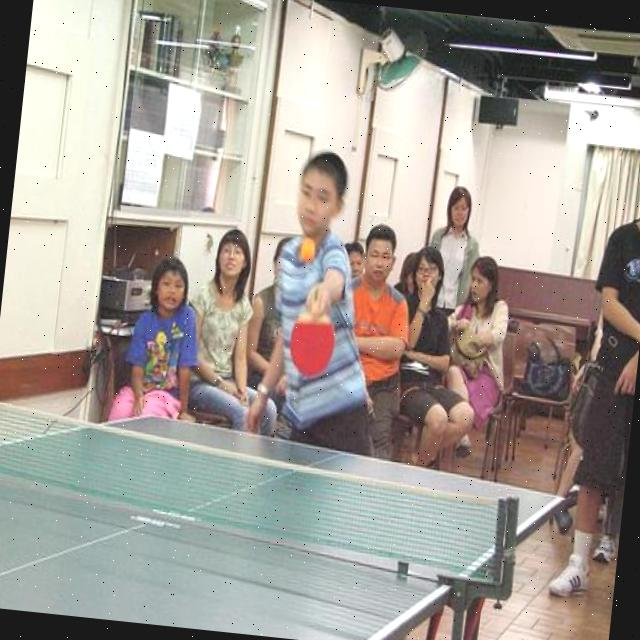ping-pong-ball: (298, 234, 314, 258)
